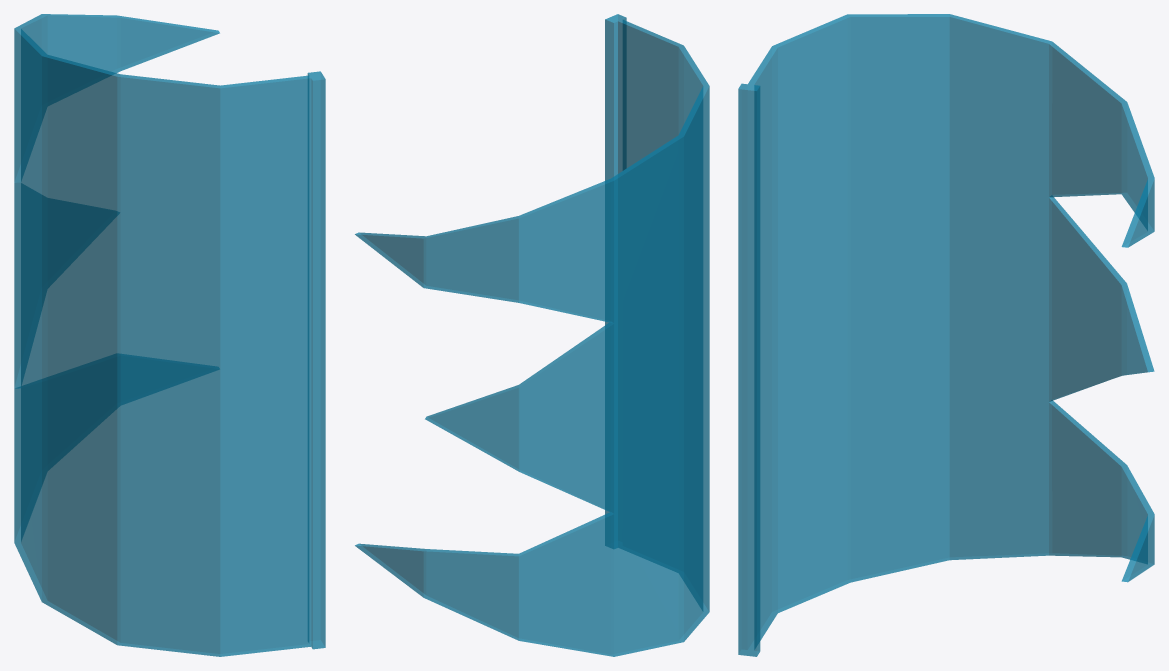
The model's file is Escudo.FBX.
3 renders of one model, left to right at view 1: azimuth 30°, elevation 25°; view 2: azimuth 150°, elevation 25°; view 3: azimuth 270°, elevation 25°, orthographic. The views are drawn at different scales.
Visible parts, largest first — view 1: Escudo; view 2: Escudo; view 3: Escudo.
Part boxes in pixels (x1=…): Escudo: x1=14, y1=14, x2=325, y2=656; Escudo: x1=355, y1=14, x2=709, y2=656; Escudo: x1=738, y1=14, x2=1154, y2=656.
Bounding box in the file's own units: 45.55 × 92.93 × 62.02.
